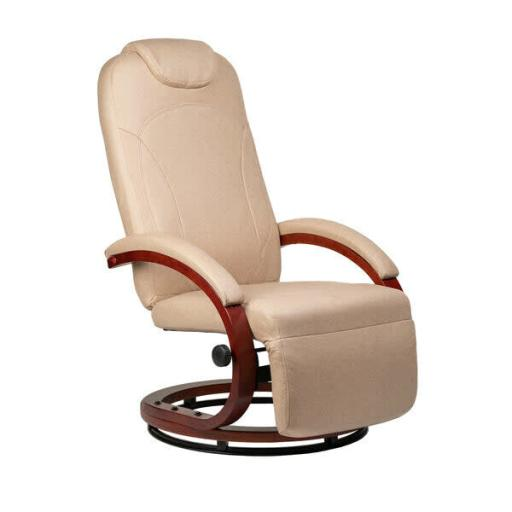chair: (76, 36, 422, 456)
